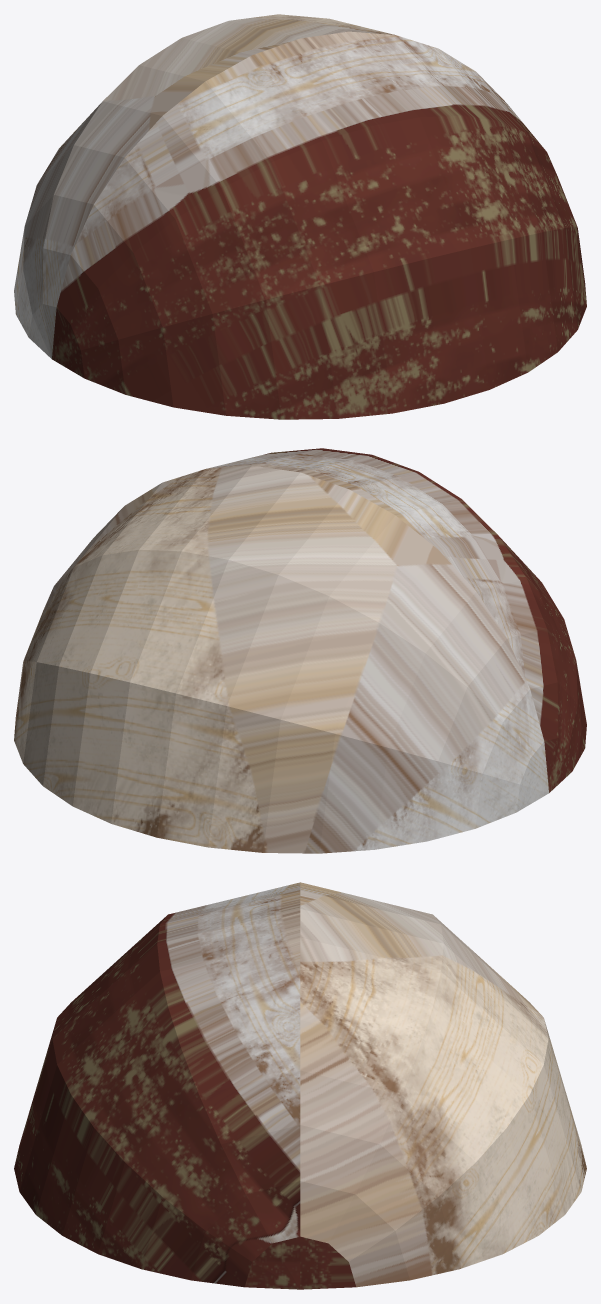
The model's file is bijou.fbx.
3 renders of one model, top to bottom at view 1: azimuth 30°, elevation 25°; view 2: azimuth 150°, elevation 25°; view 3: azimuth 270°, elevation 25°, orthographic.
Visible parts, largest first — view 1: bijou; view 2: bijou; view 3: bijou.
Part boxes in pixels (left/top/right/bottom): bijou: left=14, top=14, right=586, bottom=419; bijou: left=14, top=448, right=586, bottom=853; bijou: left=14, top=882, right=586, bottom=1289.
Size of the model in its own units: 9.01 by 4.51 by 9.01.
